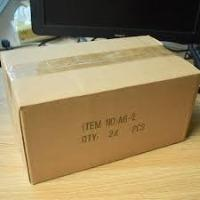undamaged: (0, 30, 198, 185)
